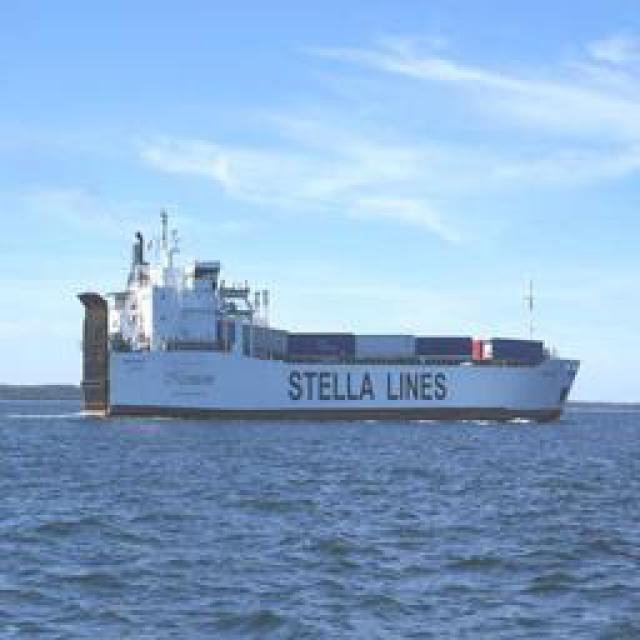Ship: (75, 215, 573, 423)
